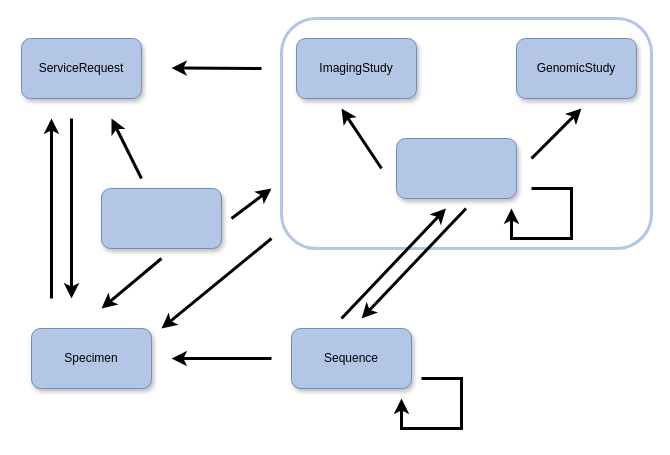
Image size: 670x455. Some labels were removed from this diagram. Here are the shapes that lost their labels. From the top down, the centre of each, then its label:
At pixel 457 170: "Observation".
At pixel 162 220: "DiagnosticReport".
